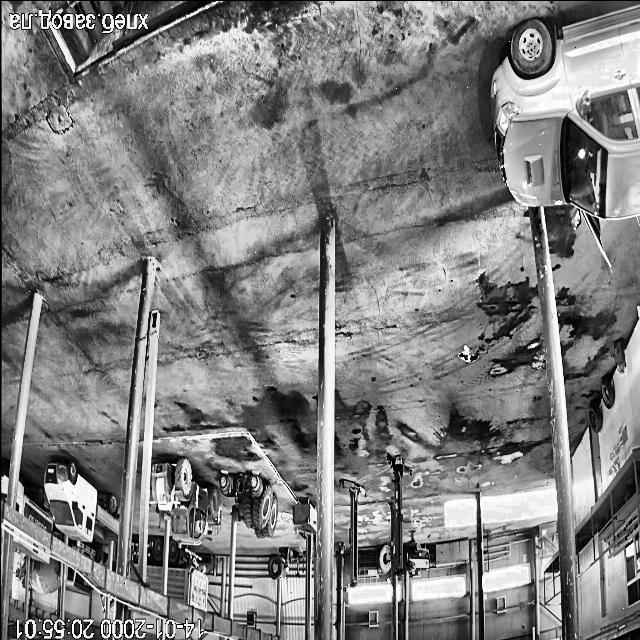class6: (151, 458, 220, 544), (220, 475, 278, 538)
class7: (44, 460, 119, 540), (168, 540, 208, 612), (16, 483, 52, 532), (20, 558, 60, 594), (146, 538, 163, 591), (12, 537, 48, 562), (68, 540, 103, 562), (65, 567, 92, 595), (0, 467, 8, 500), (132, 543, 142, 565), (130, 571, 136, 580)
mechanic: (490, 4, 640, 265)
tractor: (612, 340, 624, 372)
truck: (340, 479, 365, 588), (388, 454, 410, 575)
